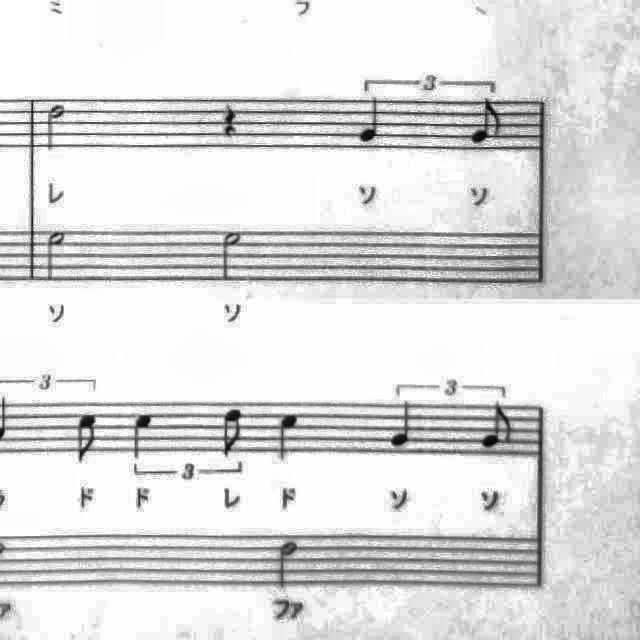Eighth-note: (475, 398, 519, 456), (464, 98, 508, 150), (213, 402, 250, 462), (70, 409, 104, 471)
Half-note: (40, 222, 76, 286), (216, 223, 252, 284), (272, 534, 304, 594), (42, 99, 74, 158)
Quarter-note: (386, 395, 428, 453), (269, 406, 307, 469), (352, 92, 390, 148), (126, 408, 160, 466)
Quarter-rest: (214, 97, 246, 145)
